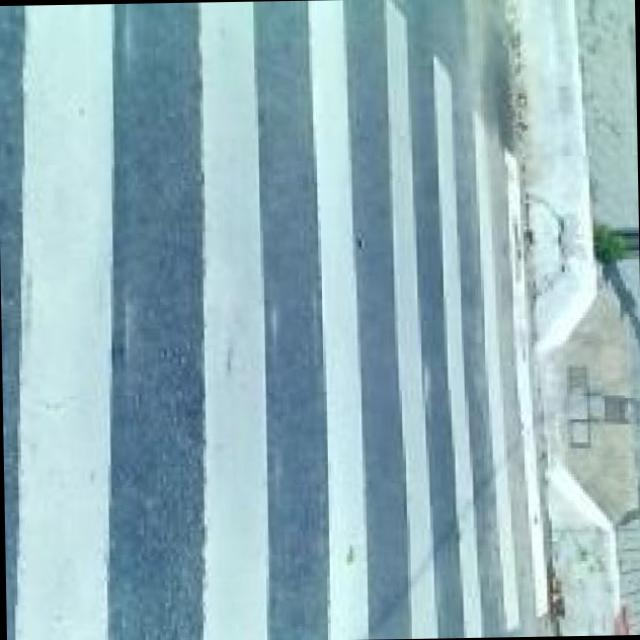zebra: (5, 2, 562, 640)
